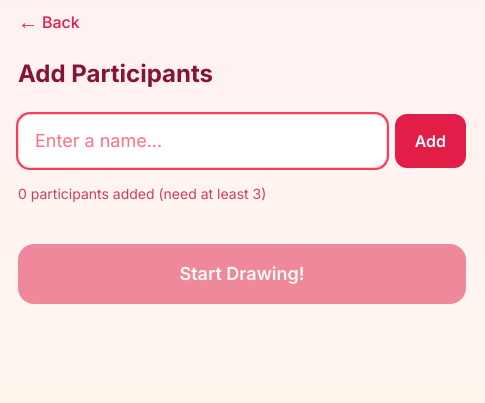
it: SetupScreen › Players step › adds participants
Type "Alice" into the field with placeholder "Enter a name...". click: (202, 141)
box: [18, 114, 387, 168]
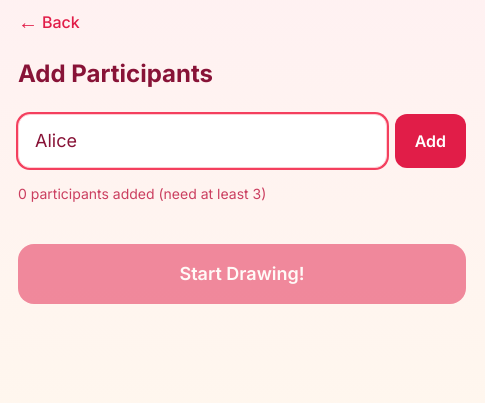
Click the button "Add". click: (430, 141)
box: [395, 114, 466, 168]
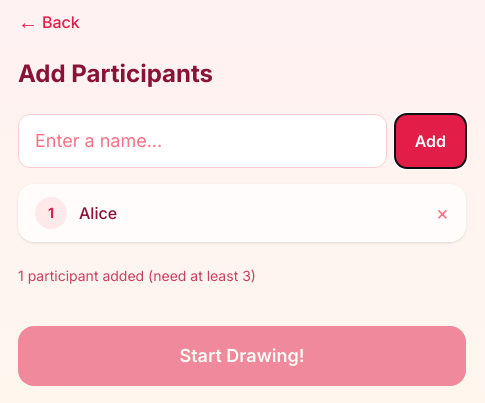
Check: the text "Alice" is shown, box [79, 201, 117, 225]
Check: the text "1 participant added (need at least 3)" is shown, box [18, 267, 256, 284]
